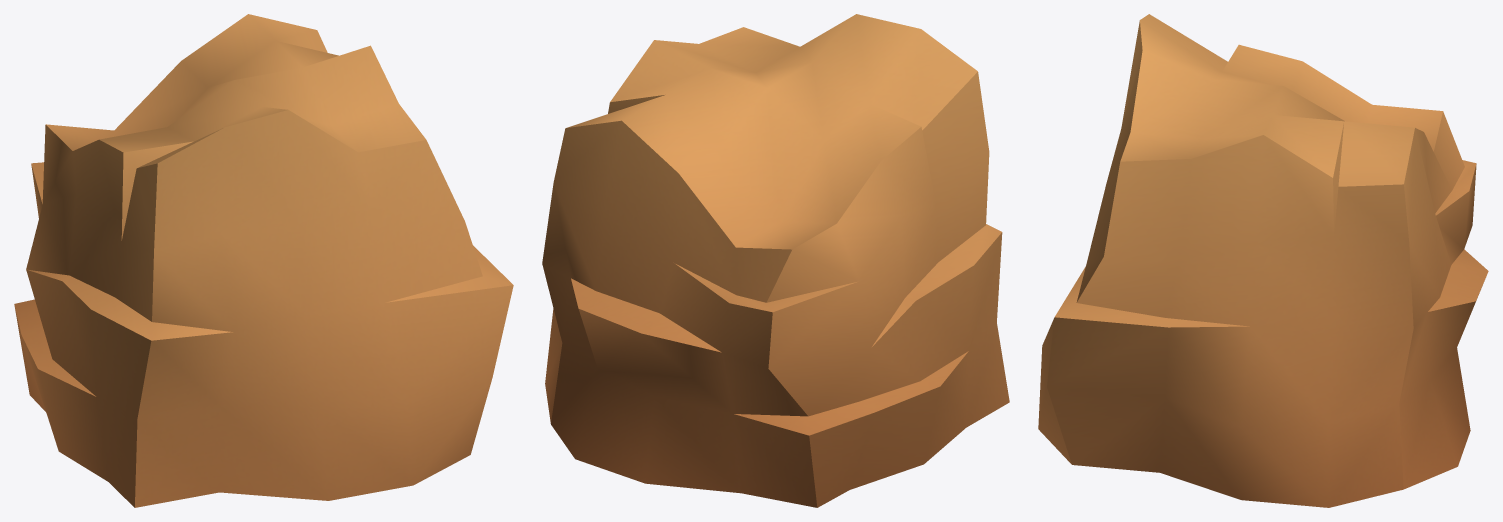
3 views of the same model, side by side, from view 1: azimuth 30°, elevation 25°; view 2: azimuth 150°, elevation 25°; view 3: azimuth 270°, elevation 25° (orthographic). The views are drawn at different scales.
Parts seen in each view (by area): view 1: diorama.001; view 2: diorama.001; view 3: diorama.001.
Boxes of the visible parts, left/top/right/bottom form: diorama.001: left=14, top=14, right=513, bottom=507; diorama.001: left=542, top=14, right=1009, bottom=507; diorama.001: left=1038, top=14, right=1488, bottom=507.
Bounding box in the file's own units: 117 × 104 × 118.
